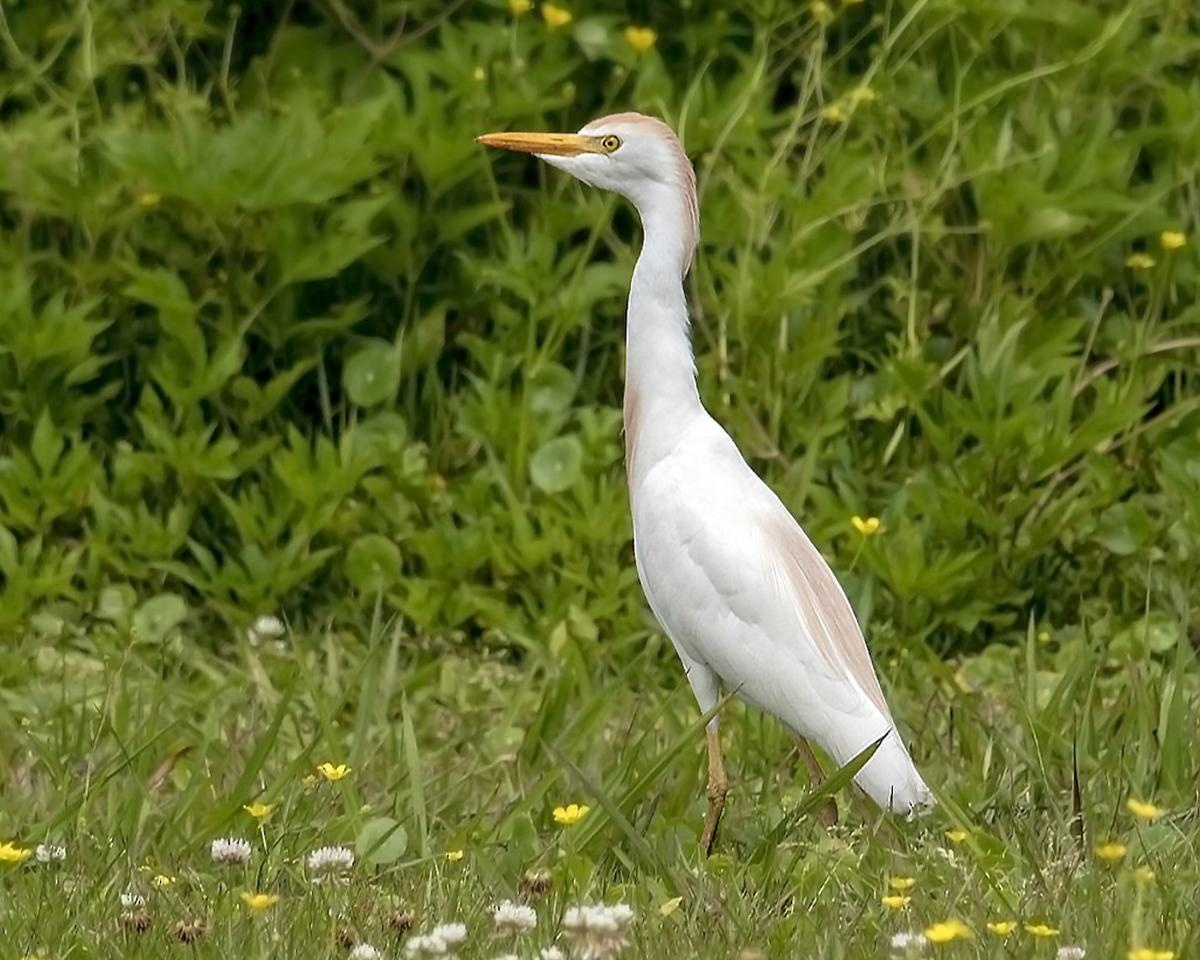egret: (476, 103, 938, 815)
